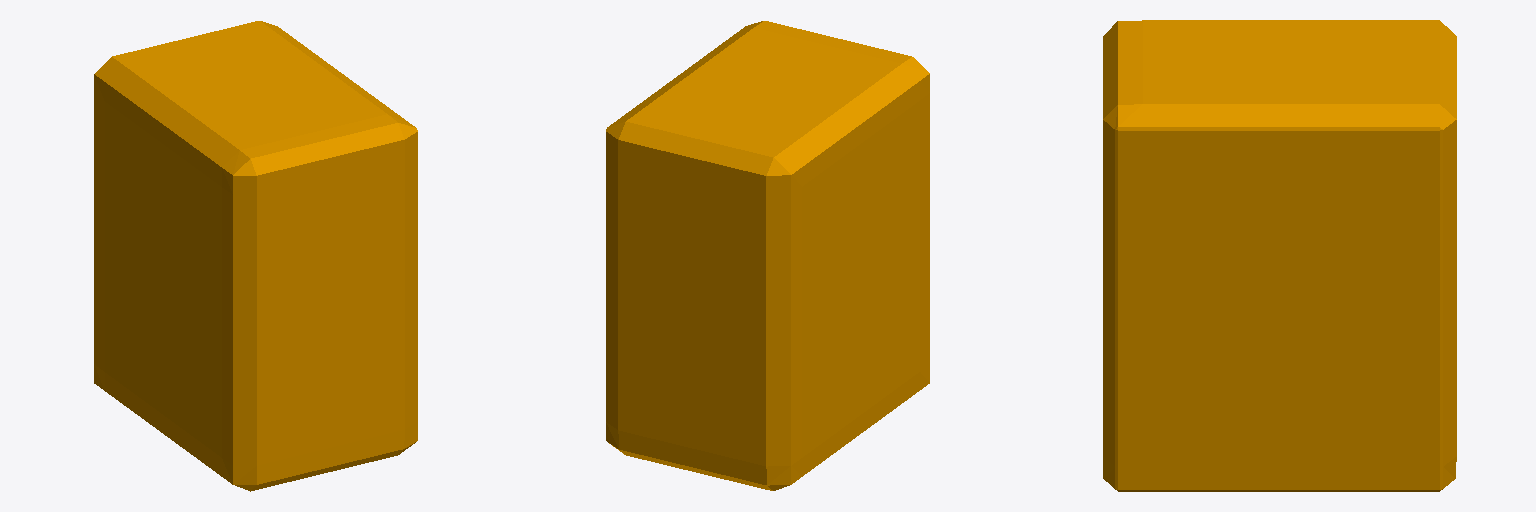
The robot description file, URDF, robot "cylinder_box_139":
<?xml version="1.0" encoding="utf-8"?>  <robot name="cylinder_box_139">   <link name="cylinder_box_139">     <visual>       <geometry>         <mesh filename="../meshes/box/box_139.stl" scale="1 1 1"/>       </geometry>     </visual>     <collision>       <geometry>         <mesh filename="../meshes/box/box_139.stl" scale="1 1 1"/>       </geometry>     </collision>     <inertial>        <origin         xyz="0 0 0"         rpy="0 0 0" />       <mass value="0.30256232645668274"/>       <origin rpy="0 0 0" xyz="0 0 0"/>       <inertia ixx="0.00030974791294186276" ixy="-5.457290170787836e-09" ixz="-4.67948948387231e-09" iyy="0.00024583461957177795" iyz="-7.3925958032202e-08" izz="0.00018740282665948355"/>     </inertial>   </link>  </robot>

--- What the picture shows (computed from the rendered views, not written in the file) ---
Views: 3 orthographic renders of the robot side by side, from view 1: azimuth 30°, elevation 25°; view 2: azimuth 150°, elevation 25°; view 3: azimuth 270°, elevation 25°.
Robot: cylinder_box_139 — 1 links, 0 joints (none); root link cylinder_box_139; default pose: all joints at 0.
Links seen in each view (by area): view 1: cylinder_box_139; view 2: cylinder_box_139; view 3: cylinder_box_139.
Boxes of the visible links, x1,y1,x2,y2 form: cylinder_box_139: [94, 21, 417, 491]; cylinder_box_139: [606, 21, 929, 490]; cylinder_box_139: [1103, 20, 1456, 491].
Bounding box of the posed robot: 0.0501 × 0.0713 × 0.0862 m (x, y, z).
Meshes: 1 distinct files referenced, 1 mesh visuals loaded (1 binary STL).